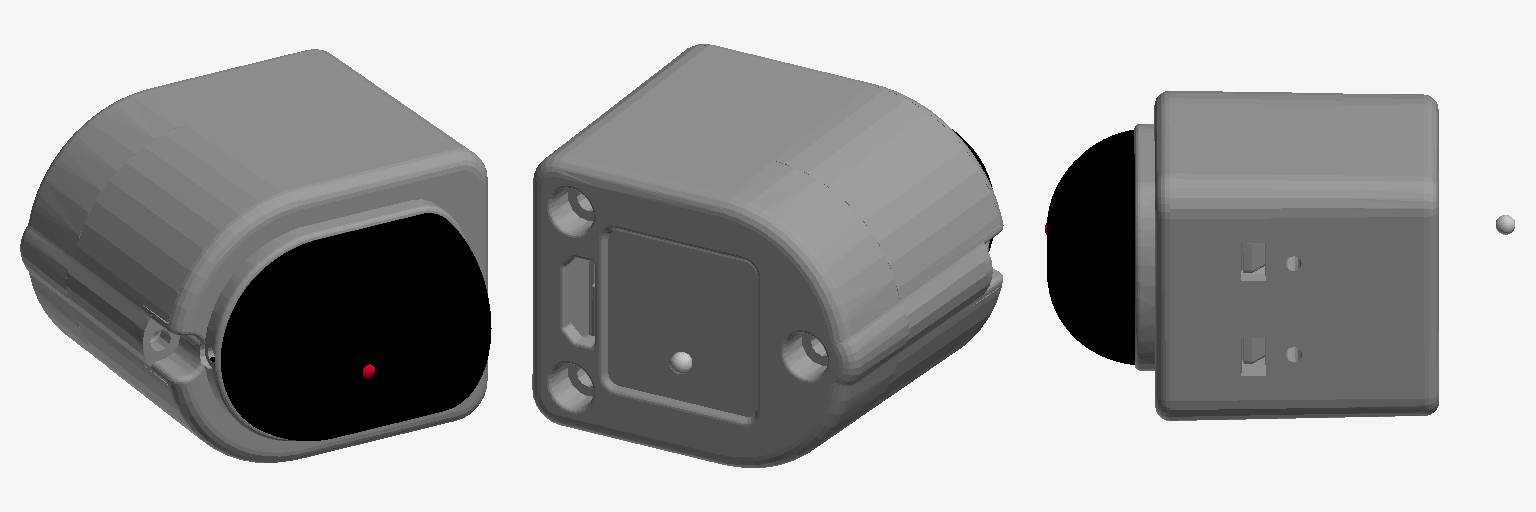
URDF robot description (universal_robot):
<?xml version="1.0"?>
<!--FOR GRIPPER, THERE IS NO LINK INERTIA DEFINED HERE-->
<robot name="universal_robot">

  <!-- Colors -->
  <material name="DarkGrey">
    <color rgba="0.2 0.2 0.2 1.0"/>
  </material>
  <material name="Grey">
    <color rgba="0.4 0.4 0.4 1.0"/>
  </material>
  <material name="Orange">
    <color rgba="1.0 0.423529411765 0.0392156862745 1.0"/>
  </material>
  <material name="Blue">
    <color rgba="0 0.1 1.0 1.0"/>
  </material>
  <material name="LightGrey">
    <color rgba="0.7 0.7 0.7 1.0"/>
  </material>
  <material name="Red">
    <color rgba="0.9 0 0.2 1.0"/>
  </material>
  <material name="TransparentRed">
    <color rgba="0.9 0 0.2 0.5"/>
  </material>
  <material name="Green">
    <color rgba="0 0.9 0.5 1.0"/>
  </material>
  <material name="Yellow">
    <color rgba="0.7 0.7 0 1.0"/>
  </material>
  <material name="LightBlue">
    <color rgba="0. 0.3 1.0 1.0"/>
  </material>
  <material name="Black">
    <color rgba="0.05 0.05 0.05 1.0"/>
  </material>
  <material name="White">
    <color rgba="1.0 1.0 1.0 1.0" />
  </material>



    <!-- connect arm to world -->
      <link name="world"/>
      <joint name="world_joint" type="fixed">
        <parent link="world"/>
        <child link="base_link"/>
        <origin rpy="0.0 0.0 -3.14" xyz="0.0 0.0 0.0"/>
      </joint>


      <link name="base_link">
        <visual>
          <geometry>
            <mesh filename="visual/base.obj"/>
          </geometry>
          <material name="LightGrey"/>
        </visual>
        <collision>
          <geometry>
            <mesh filename="collision/base.stl"/>
          </geometry>
        </collision>
        <inertial>
          <mass value="4.0"/>
          <origin rpy="0 0 0" xyz="0.0 0.0 0.0"/>
          <inertia ixx="0.00443333156" ixy="0.0" ixz="0.0" iyy="0.00443333156" iyz="0.0" izz="0.0072"/>
        </inertial>
      </link>

      <joint name="base_joint" type="revolute">
        <parent link="base_link"/>
        <child link="shoulder_link"/>
        <origin rpy="0.0 0.0 0.0" xyz="0.0 0.0 0.089159"/>
        <axis xyz="0 0 1"/>
        <limit effort="150.0" lower="-100" upper="100" velocity="3.15"/>
        <dynamics damping="0.5" friction="0.0"/>
      </joint>

      <link name="shoulder_link">
        <visual>
          <geometry>
            <mesh filename="visual/shoulder.obj"/>
          </geometry>
          <material name="DarkGrey"/>
        </visual>
        <collision>
          <geometry>
            <mesh filename="collision/shoulder.stl"/>
          </geometry>
        </collision>
        <inertial>
          <mass value="3.7"/>
          <origin rpy="0 0 0" xyz="0.0 0.0 0.0"/>
          <inertia ixx="0.010267495893" ixy="0.0" ixz="0.0" iyy="0.010267495893" iyz="0.0" izz="0.00666"/>
        </inertial>
      </link>

      <joint name="shoulder_joint" type="revolute">
        <parent link="shoulder_link"/>
        <child link="upper_arm_link"/>
        <origin rpy="0.0 1.57079632679 0.0" xyz="0.0 0.13585 0.0"/>
        <axis xyz="0 1 0"/>
        <limit effort="150.0" lower="-100" upper="100" velocity="3.15"/>
        <dynamics damping="0.5" friction="0.0"/>
      </joint>

      <link name="upper_arm_link">
        <visual>
          <geometry>
            <mesh filename="visual/upperarm.obj"/>
          </geometry>
          <material name="LightGrey"/>
        </visual>
        <collision>
          <geometry>
            <mesh filename="collision/upperarm.stl"/>
          </geometry>
        </collision>
        <inertial>
          <mass value="8.393"/>
          <origin rpy="0 0 0" xyz="0.0 0.0 0.28"/>
          <inertia ixx="0.22689067591" ixy="0.0" ixz="0.0" iyy="0.22689067591" iyz="0.0" izz="0.0151074"/>
        </inertial>
      </link>

      <joint name="elbow_joint" type="revolute">
        <parent link="upper_arm_link"/>
        <child link="forearm_link"/>
        <origin rpy="0.0 0.0 0.0" xyz="0.0 -0.1197 0.425"/>
        <axis xyz="0 1 0"/>
        <limit effort="150.0" lower="-100" upper="100" velocity="3.15"/>
        <dynamics damping="0.5" friction="0.0"/>
      </joint>

      <link name="forearm_link">
        <visual>
          <geometry>
            <mesh filename="visual/forearm.obj"/>
          </geometry>
          <material name="DarkGrey"/>
        </visual>
        <collision>
          <geometry>
            <mesh filename="collision/forearm.stl"/>
          </geometry>
        </collision>
        <inertial>
          <mass value="2.275"/>
          <origin rpy="0 0 0" xyz="0.0 0.0 0.25"/>
          <inertia ixx="0.049443313556" ixy="0.0" ixz="0.0" iyy="0.049443313556" iyz="0.0" izz="0.004095"/>
        </inertial>
      </link>

      <joint name="wrist_1_joint" type="revolute">
        <parent link="forearm_link"/>
        <child link="wrist_1_link"/>
        <origin rpy="0.0 1.57079632679 0.0" xyz="0.0 0.0 0.39225"/>
        <axis xyz="0 1 0"/>
        <limit effort="28.0" lower="-100" upper="100" velocity="3.2"/>
        <dynamics damping="0.5" friction="0.0"/>
      </joint>

      <link name="wrist_1_link">
        <visual>
          <geometry>
            <mesh filename="visual/wrist1.obj"/>
          </geometry>
          <material name="LightGrey"/>
        </visual>
        <collision>
          <geometry>
            <mesh filename="collision/wrist1.stl"/>
          </geometry>
        </collision>
        <inertial>
          <mass value="1.219"/>
          <origin rpy="0 0 0" xyz="0.0 0.0 0.0"/>
          <inertia ixx="0.111172755531" ixy="0.0" ixz="0.0" iyy="0.111172755531" iyz="0.0" izz="0.21942"/>
        </inertial>
      </link>

      <joint name="wrist_2_joint" type="revolute">
        <parent link="wrist_1_link"/>
        <child link="wrist_2_link"/>
        <origin rpy="0.0 0.0 0.0" xyz="0.0 0.093 0.0"/>
        <axis xyz="0 0 1"/>
        <limit effort="28.0" lower="-100" upper="100" velocity="3.2"/>
        <dynamics damping="0.5" friction="0.0"/>
      </joint>

      <link name="wrist_2_link">
        <visual>
          <geometry>
            <mesh filename="visual/wrist2.obj"/>
          </geometry>
          <material name="DarkGrey"/>
        </visual>
        <collision>
          <geometry>
            <mesh filename="collision/wrist2.stl"/>
          </geometry>
        </collision>
        <inertial>
          <mass value="1.219"/>
          <origin rpy="0 0 0" xyz="0.0 0.0 0.0"/>
          <inertia ixx="0.111172755531" ixy="0.0" ixz="0.0" iyy="0.111172755531" iyz="0.0" izz="0.21942"/>
        </inertial>
      </link>

      <joint name="wrist_3_joint" type="revolute">
        <parent link="wrist_2_link"/>
        <child link="wrist_3_link"/>
        <origin rpy="0.0 0.0 0.0" xyz="0.0 0.0 0.09465"/>
        <axis xyz="0 1 0"/>
        <limit effort="28.0" lower="-100" upper="100" velocity="3.2"/>
        <dynamics damping="0.5" friction="0.0"/>
      </joint>

      <link name="wrist_3_link">
        <visual>
          <geometry>
            <mesh filename="visual/wrist3.obj"/>
          </geometry>
           <material name="whitish">
            <color rgba="0.8 0.8 0.8 1.0"/>
          </material>
        </visual>
        <collision>
          <geometry>
            <mesh filename="collision/wrist3.stl"/>
          </geometry>
        </collision>
        <inertial>
          <mass value="0.1879"/>
          <origin rpy="0 0 0" xyz="0.0 0.0 0.0"/>
          <inertia ixx="0.0171364731454" ixy="0.0" ixz="0.0" iyy="0.0171364731454" iyz="0.0" izz="0.033822"/>
        </inertial>
      </link>

      <!-- End Effector -->

      <joint name="ee_joint" type="fixed">
        <parent link="wrist_3_link"/>
        <child link="ee_link"/>
        <origin rpy="1.57 3.14 0.0" xyz="0.0 0.0823 0.0"/>
      </joint>

      <link name="ee_link">
        <visual>
          <origin rpy="0 0 0" xyz="0 0 0"/>
          <geometry>
            <sphere radius="0.001"/>
          </geometry>
           <material name="whitish">
            <color rgba="0.8 0.8 0.8 1.0"/>
          </material>
        </visual>
        <collision>
          <geometry>
            <sphere radius="0.001"/>
          </geometry>
          <origin rpy="0 0 0" xyz="0.0 0 0"/>
        </collision>
        <inertial>
          <mass value="0.0"/>
          <origin rpy="-3.14 0.0 1.57" xyz="0.0 0.0 0.0"/>
          <inertia ixx="0.001" ixy="0.0" ixz="0.0" iyy="0.001" iyz="0.0" izz="0.001"/>
        </inertial>
      </link>

      <!-- TacTip -->



  <link
    name="digitac_body_link">
  <inertial>
      <origin
        xyz="0.0044483897843889 -0.0137570316187898 -1.33478473442024E-08+0.035"
        rpy="0 0 0" />
      <mass
        value="0.00791827593084163" />
      <inertia
        ixx="7.86145751817283E-07"
        ixy="-4.85149902505629E-09"
        ixz="4.89421524982813E-12"
        iyy="1.59818901807298E-06"
        iyz="-2.18755873901251E-12"
        izz="1.06961344577448E-06" />
    </inertial>
    <visual>
      <origin
        xyz="0 0 0.035"
        rpy="0 0 0" />
      <geometry>
        <mesh
          filename="../digitac/standard_digitac/digitac_asmb/meshes/digitac_body.STL" />
      </geometry>
      <material
        name="">
        <color
          rgba="0.627450980392157 0.627450980392157 0.627450980392157 1" />
      </material>
    </visual>
    <collision>
      <origin
        xyz="0 0 0.035"
        rpy="0 0 0" />
      <geometry>
        <mesh
          filename="../digitac/standard_digitac/digitac_asmb/meshes/digitac_body.STL" />
      </geometry>
    </collision>
  </link>


      <joint name="tactip_ee_joint" type="fixed">
        <parent link="ee_link"/>
        <child link="digitac_body_link"/>
        <origin rpy="-3.14 0.0 3.14" xyz="0.0 0.0 0.0"/>
      </joint>


  <link
    name="digitac_tip_link">


        <inertial>
      <origin
        xyz="1.95689617055233E-05 -0.00418318281817305 -0.00513072481258713-0.035"
        rpy="0 0 0" />
      <mass
        value="0.000211579321175967" />
      <inertia
        ixx="1.6421406108058E-08"
        ixy="-3.59682768116548E-11"
        ixz="8.26721658003392E-12"
        iyy="1.10821033019274E-08"
        iyz="-1.94916165896316E-10"
        izz="2.23470337659004E-08" />
    </inertial>
    <visual>
      <origin
        xyz="0 0 -0.035"
        rpy="0 0 0" />
      <geometry>
        <mesh
          filename="../digitac/standard_digitac/digitac_asmb_hollow/meshes/digitac_core.STL" />
      </geometry>
      <material
        name="digitac_skin">
        <color
          rgba="0.0 0.0 0.0 1" />
      </material>
    </visual>
    <collision>
      <origin
        xyz="0 0 -0.035"
        rpy="0 0 0" />
      <geometry>
        <mesh
          filename="../digitac/standard_digitac/digitac_asmb/meshes/digitac_core.STL" />
      </geometry>
    </collision>



  </link>



<!-- 
      <joint name="tactip_tip_to_body" type="fixed">
         <origin rpy="1.57 0 0" xyz="0 0 0.065"/>
         <axis xyz="0 1 0"/>
         <parent link="digitac_body_link"/>
         <child link="digitac_tip_link"/>
      </joint> -->
  <joint
    name="tactip_tip_to_body"
    type="fixed">
    <origin
      xyz="0 0 0"
      rpy="3.14159265358979 0 -1.5707963267949" />
    <parent
      link="digitac_body_link" />
    <child
      link="digitac_tip_link" />
    <axis
      xyz="0 0 0" />
  </joint>


      <!-- TCP -->
      <link name="tcp_link">
        <visual>
          <origin rpy="0 0 0" xyz="0 0 0"/>
          <geometry>
            <sphere radius="0.001"/>
          </geometry>
           <material name="TransparentRed"/>
        </visual>
        <inertial>
          <mass value="0.0"/>
          <origin rpy="0.0 0.0 1.57" xyz="0.0 0.0 0.0"/>
          <inertia ixx="1.0" ixy="0.0" ixz="0.0" iyy="1.0" iyz="0.0" izz="1.0"/>
        </inertial>
      </link>

      <joint name="tcp_joint" type="fixed">
        <parent link="digitac_body_link"/>
        <child link="tcp_link"/>
        <origin rpy="0 0 0" xyz="0.0007 0.0 0.045"/>
        <!-- <origin rpy="0 0 0" xyz="0.00145 0.0 0.025"/> -->
        <!-- <origin rpy="0 0 0" xyz="0.0018 0.0 0.025"/> -->
      </joint>



  <!-- <link
    name="sq_link">
    <inertial>
      <origin
        xyz="-0.00535000000000003 0.00799999999999999 5.00000000005617E-06-0.035"
        rpy="0 0 0" />
      <mass
        value="1.59999999999993E-07" />
      <inertia
        ixx="5.33346666666645E-14"
        ixy="-1.34013559776601E-30"
        ixz="4.41903370583012E-33"
        iyy="5.33346666666645E-14"
        iyz="-3.65677197028787E-28"
        izz="1.06666666666662E-13" />
    </inertial>
    <visual>
      <origin
        xyz=" +0.22  +0.22  +0.22"
        rpy="0 0 0" />
      <geometry>
        <mesh
          filename="../digitac/standard_digitac/digitac_asmb_skin_with_marks/meshes/sq_link.STL" />
      </geometry>
      <material
        name="Green">
        <color
          rgba="0.9 0.9 0.9 0" />
      </material>
    </visual>
    <collision>
      <origin
        xyz=" +0.22  +0.22 +0.22"
        rpy="0 0 0" />
      <geometry>
        <mesh
          filename="../digitac/standard_digitac/digitac_asmb_skin_with_marks/meshes/sq_link.STL" />
      </geometry>
    </collision>
  </link>


  <joint
    name="skin_sq_joint"
    type="fixed">
    <origin
      xyz="-0.00535000000000005 0.0132650762017464 -0.00645000000000009"
      rpy="0 0 3.14159265358979" />
    <parent
      link="digitac_tip_link" />
    <child
      link="sq_link" />
    <axis
      xyz="0 0 0" />
  </joint> -->


</robot>

--- Render facts (derived) ---
Views: 3 orthographic renders of the robot side by side, from view 1: azimuth 30°, elevation 25°; view 2: azimuth 150°, elevation 25°; view 3: azimuth 270°, elevation 25°.
Model universal_robot with 12 links and 11 joints (6 revolute, 5 fixed), rooted at world, posed every joint at zero.
Links seen in each view (by area): view 1: digitac_body_link, digitac_tip_link; view 2: digitac_body_link; view 3: digitac_body_link, digitac_tip_link.
Link boxes in pixels (x1=…): digitac_body_link: x1=20, y1=49, x2=487, y2=462; digitac_tip_link: x1=210, y1=213, x2=491, y2=440; digitac_body_link: x1=532, y1=44, x2=1003, y2=467; digitac_body_link: x1=1134, y1=91, x2=1438, y2=420; digitac_tip_link: x1=1047, y1=130, x2=1134, y2=364.
Size in the robot's own frame: 0.034 by 0.047 by 0.0269 metres.
Meshes: 9 distinct files referenced, 2 mesh visuals loaded (2 binary STL); not drawn: 7 (reference not matched to a file when rendering).